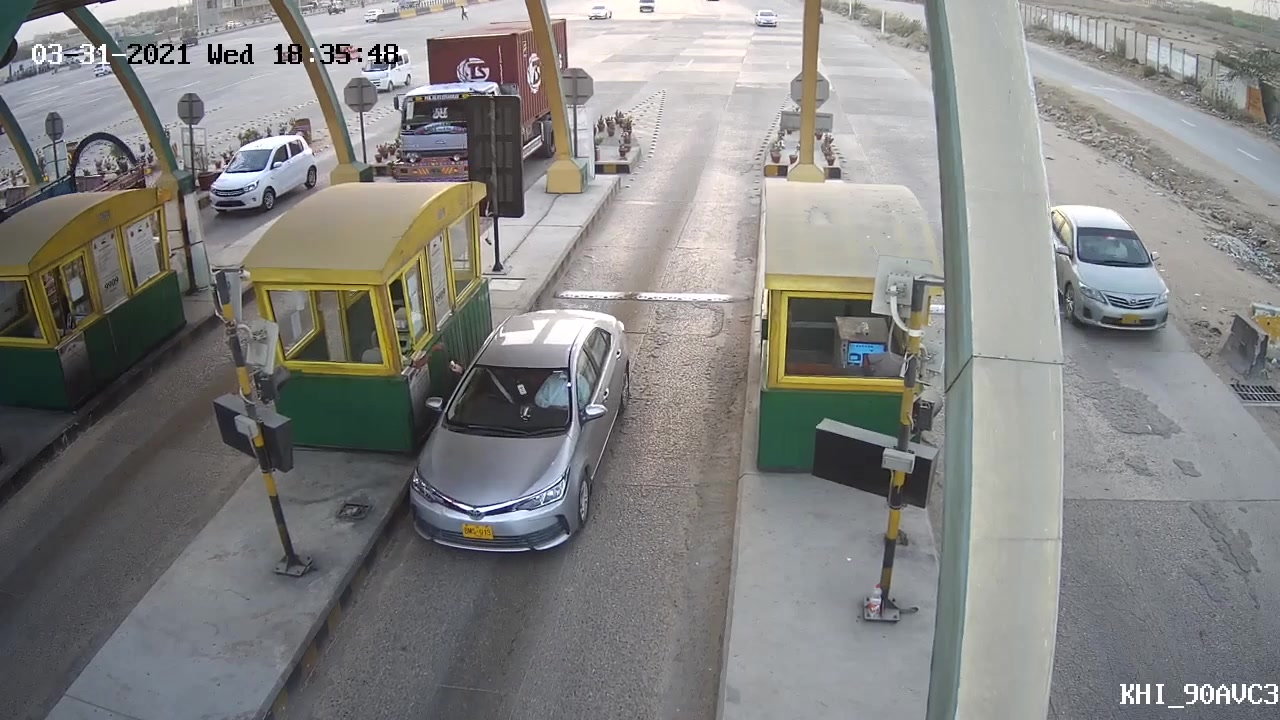F1: (400, 303, 637, 557)
